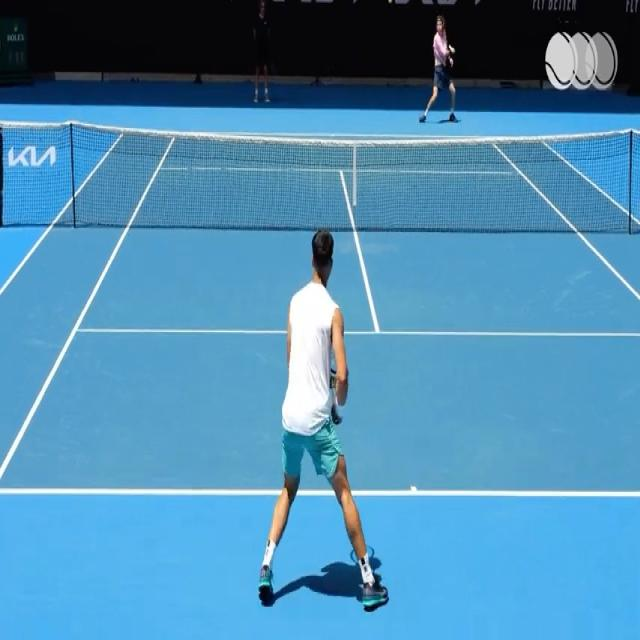ready-position: (265, 222, 386, 610)
